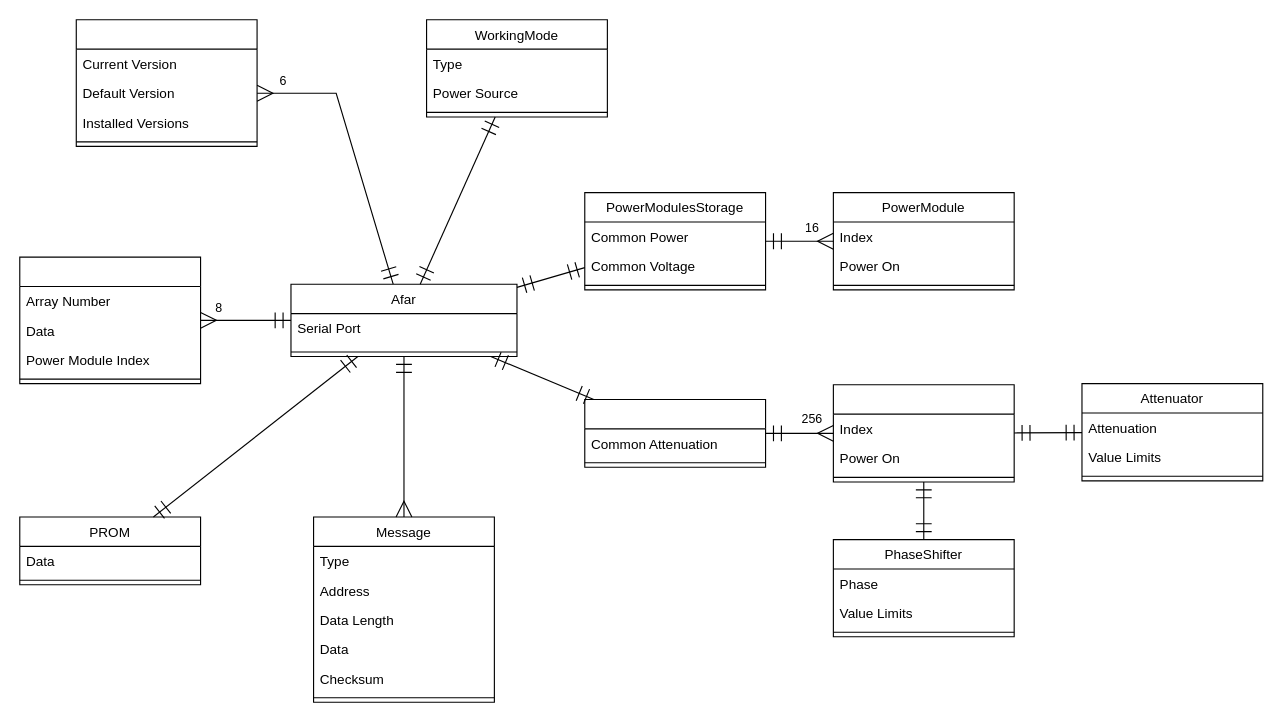
This 1283x722 diagram has some shape labels left out. Each missing label, with the box of its shape:
Software: (75, 19, 257, 146)
Telemetry: (19, 256, 201, 384)
Transmitter: (832, 384, 1014, 482)
TransmittersStorage: (584, 398, 766, 467)
